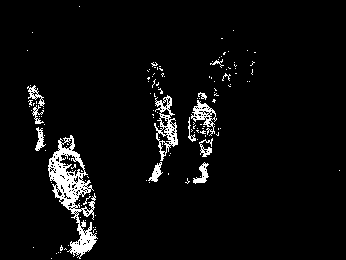person: (47, 132, 99, 257), (190, 92, 218, 188), (151, 94, 178, 186), (24, 82, 47, 153)
